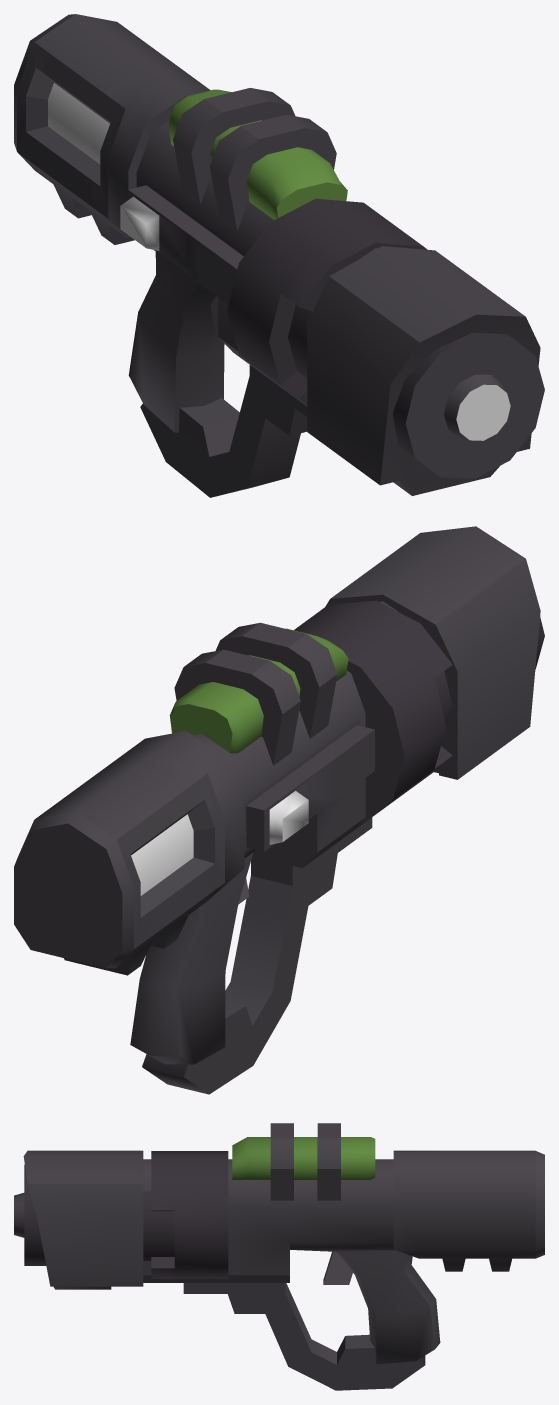
Rendered from LaserRifle.fbx.
3 renders of one model, top to bottom at view 1: azimuth 30°, elevation 25°; view 2: azimuth 150°, elevation 25°; view 3: azimuth 270°, elevation 25°, orthographic. The views are drawn at different scales.
Visible parts, largest first — view 1: LaserRifle; view 2: LaserRifle; view 3: LaserRifle.
Part boxes in pixels (left/top/right/bottom): LaserRifle: left=14, top=14, right=544, bottom=497; LaserRifle: left=14, top=526, right=544, bottom=1094; LaserRifle: left=14, top=1123, right=544, bottom=1390.
Bounding box in the file's own units: 15.69 × 33.59 × 63.89.
